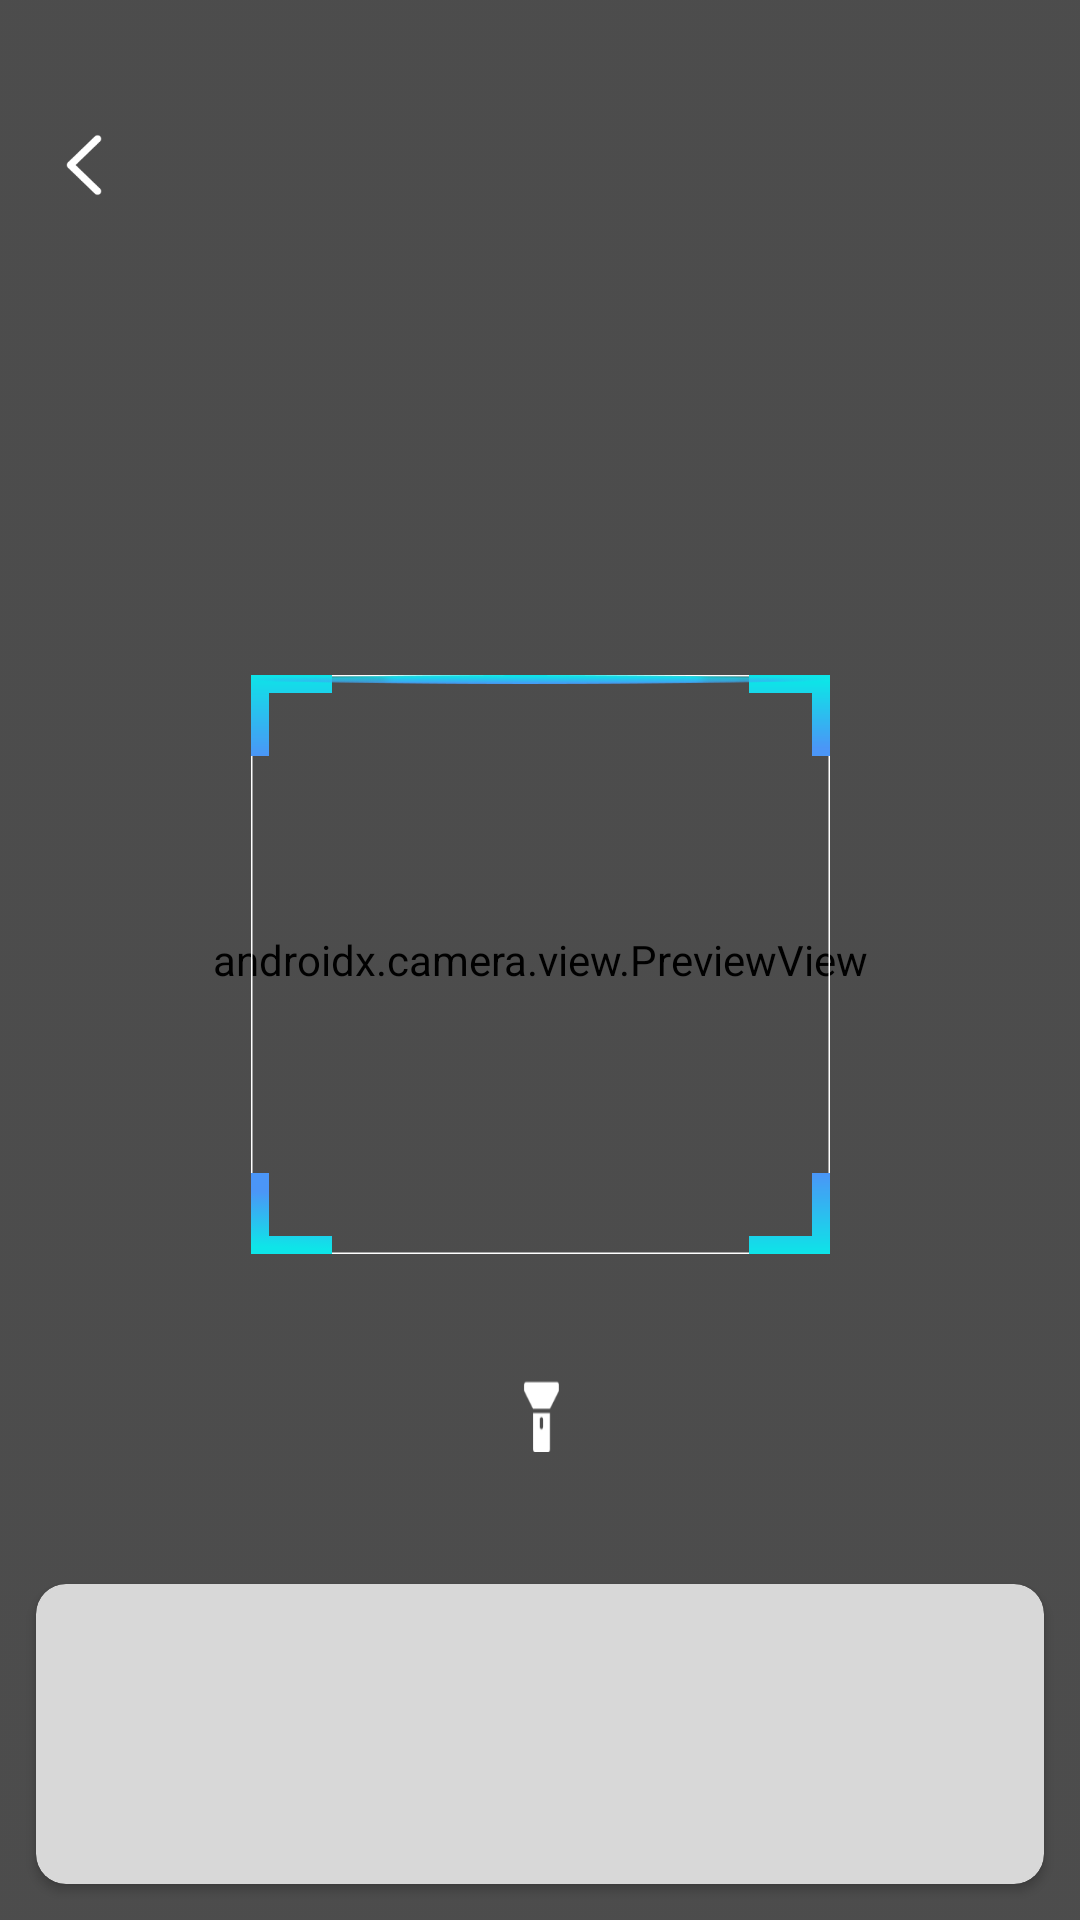

Icon bounding boxes for this 1080 × 1920 phone screenshot, format (x1, y1, x2, y2):
back: (66, 135, 102, 195)
